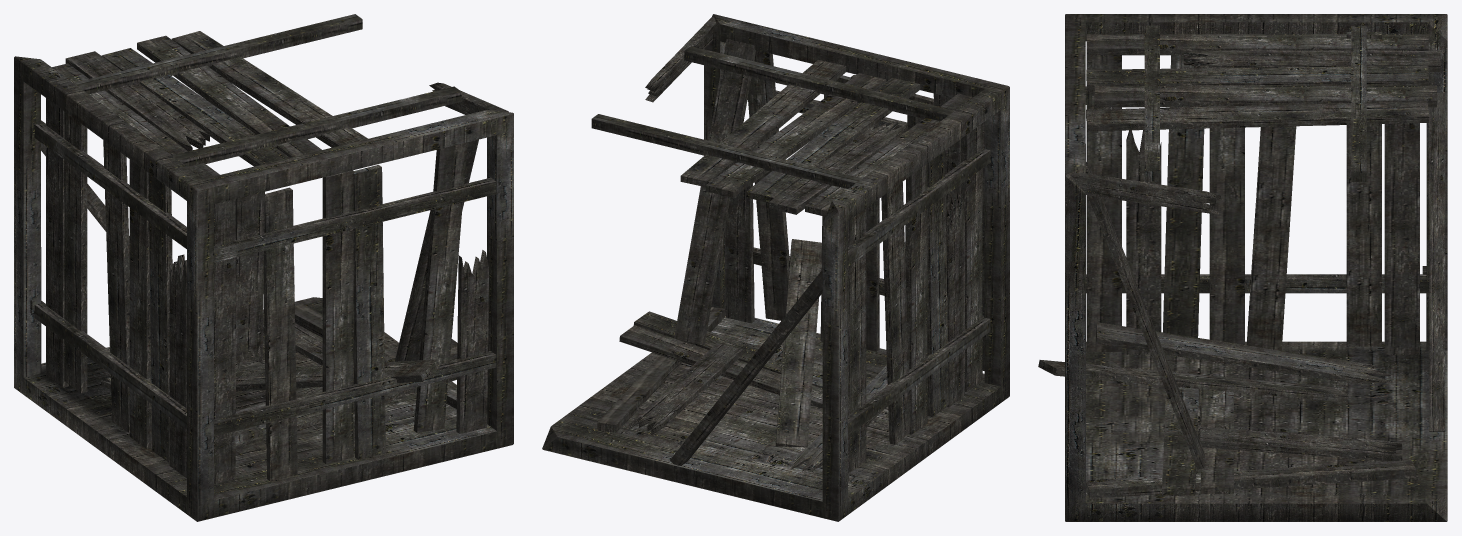
File: WoodenBox_5.fbx
3 renders of one model, left to right at view 1: azimuth 30°, elevation 25°; view 2: azimuth 150°, elevation 25°; view 3: azimuth 270°, elevation 25°, orthographic. The views are drawn at different scales.
Visible parts, largest first — view 1: WoodenBox_5; view 2: WoodenBox_5; view 3: WoodenBox_5.
Boxes of the visible parts, x1,y1,x2,y2 form: WoodenBox_5: (14,14,513,521); WoodenBox_5: (542,14,1009,521); WoodenBox_5: (1038,14,1447,521).
Bounding box in the file's own units: 107 × 100 × 107.
